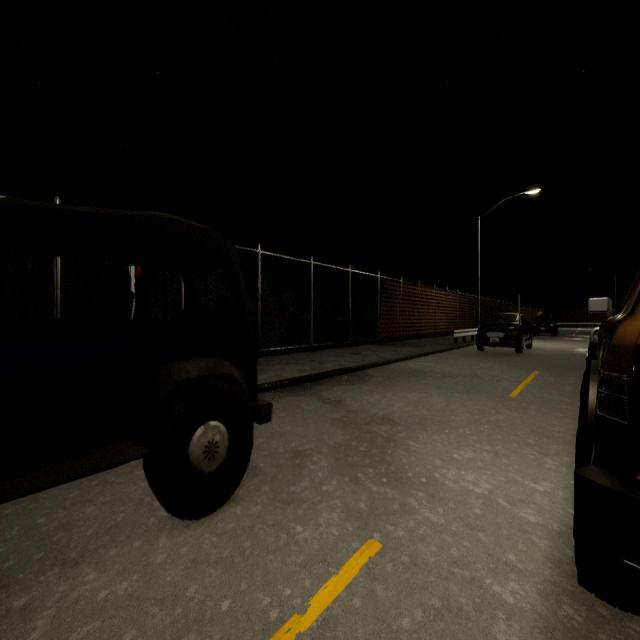Vehicle: (2, 196, 274, 522), (575, 258, 640, 618), (475, 311, 533, 354), (533, 311, 559, 337)
